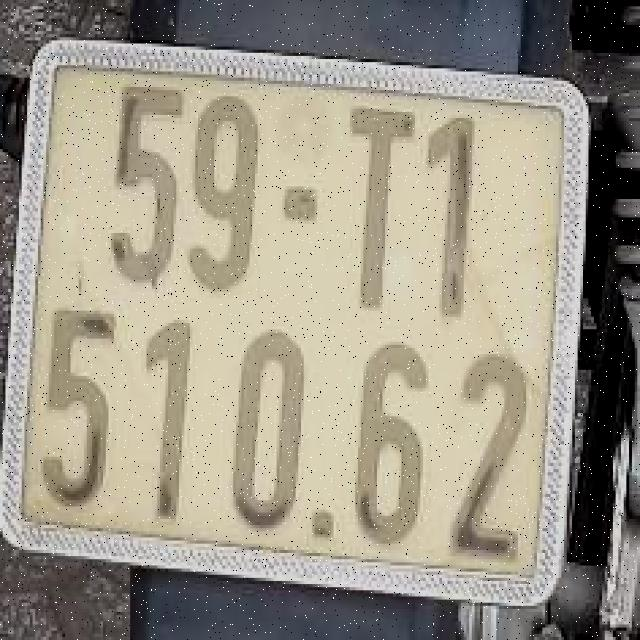0: (215, 312, 306, 561)
1: (421, 93, 496, 330), (133, 304, 209, 534)
2: (452, 348, 541, 581)
5: (32, 294, 133, 526), (98, 75, 190, 302)
6: (344, 336, 442, 562)
9: (190, 73, 279, 306)
T: (331, 93, 423, 323)
